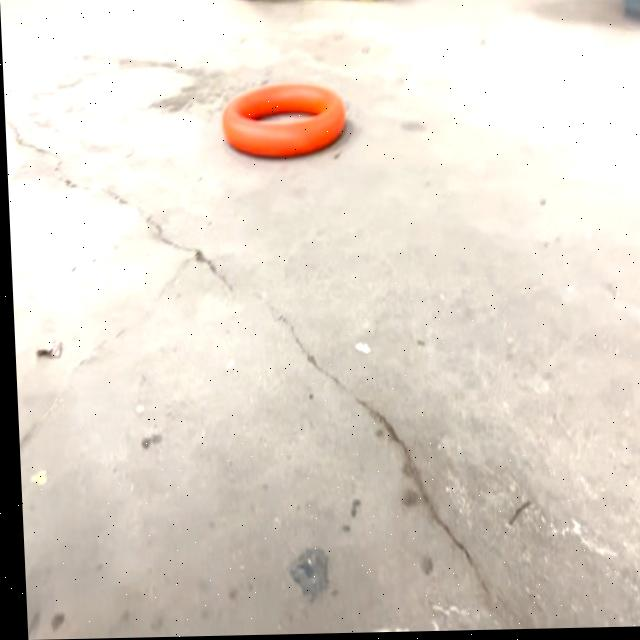note: (219, 83, 344, 158)
